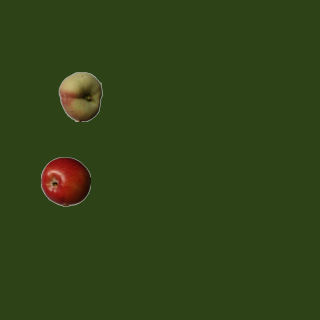Apple Braeburn: (40, 156, 90, 206)
Peach Flat: (55, 71, 105, 121)
